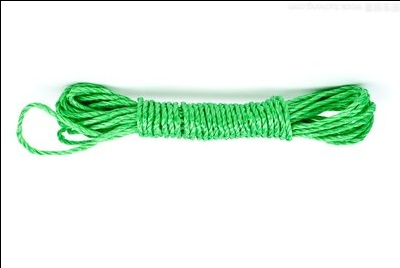9/可回收垃圾/绳子: (15, 82, 377, 156)
